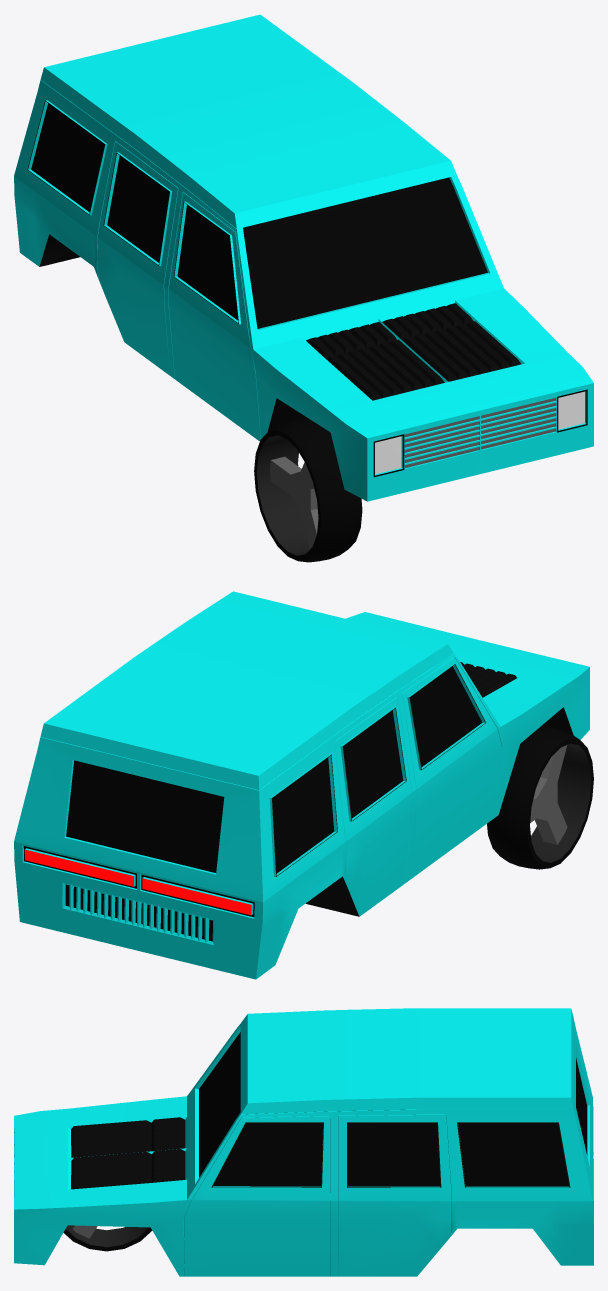
File: Vehicle 2_M_V1_Raghu.fbx
The picture shows the model from 3 angles, top to bottom: view 1: azimuth 30°, elevation 25°; view 2: azimuth 150°, elevation 25°; view 3: azimuth 270°, elevation 25°; orthographic projection. The views are drawn at different scales.
Parts seen in each view (by area): view 1: Box004, Tube003; view 2: Box004, Tube003; view 3: Box004, Tube003.
Part boxes in pixels (x1,y1,x2,y2): Box004: [14, 14, 593, 501]; Tube003: [254, 419, 362, 562]; Box004: [14, 591, 589, 979]; Tube003: [487, 727, 593, 869]; Box004: [14, 1008, 593, 1276]; Tube003: [63, 1225, 152, 1251].
Bounding box in the file's own units: 811 × 840 × 1819.
